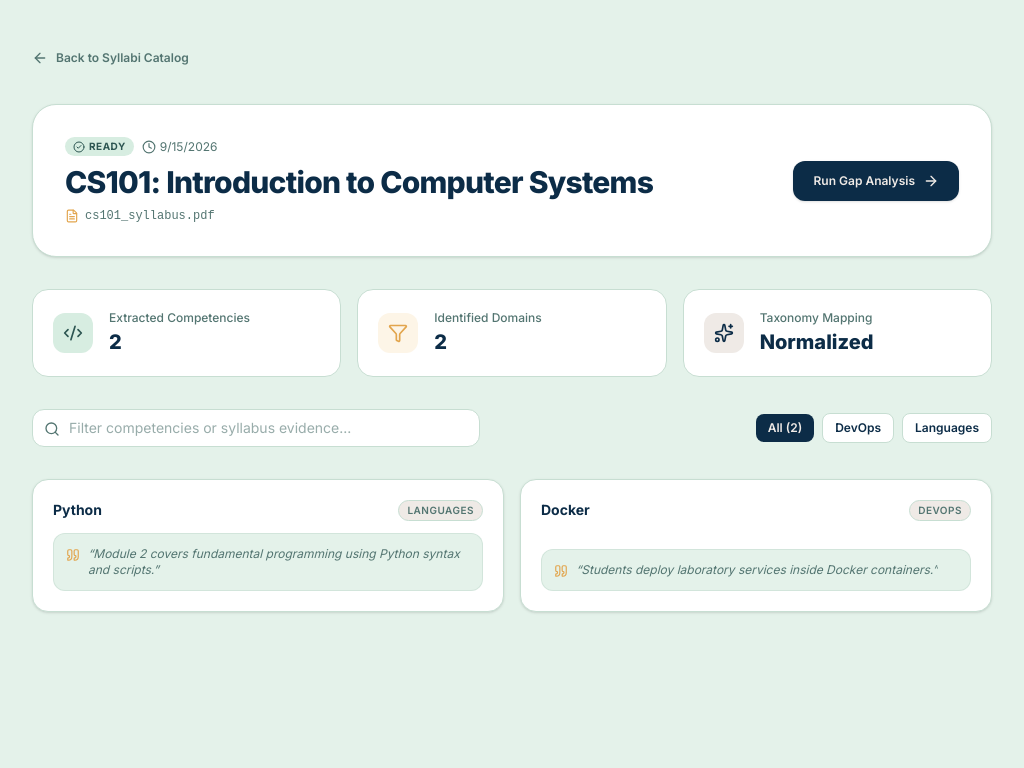
Test: Syllabi Management & Detail Portal › filters competencies by category in detail view
Expected: the text "Python" is shown, x1=53 y1=500 x2=102 y2=520
Expected: the text "Docker" is shown, x1=541 y1=500 x2=590 y2=520
Click on Languages category filter
Click the button "Languages": (947, 428) x1=902 y1=413 x2=992 y2=443
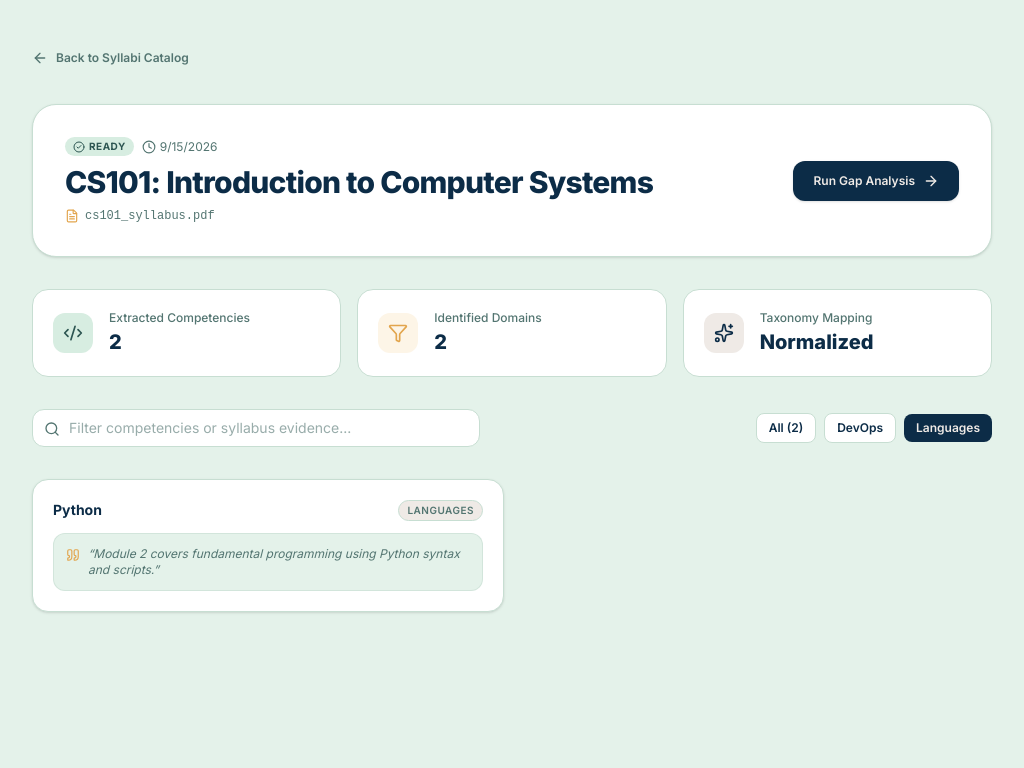
Expected: the text "Python" is shown, x1=53 y1=500 x2=102 y2=520
Expected: the text "Docker" is gone
